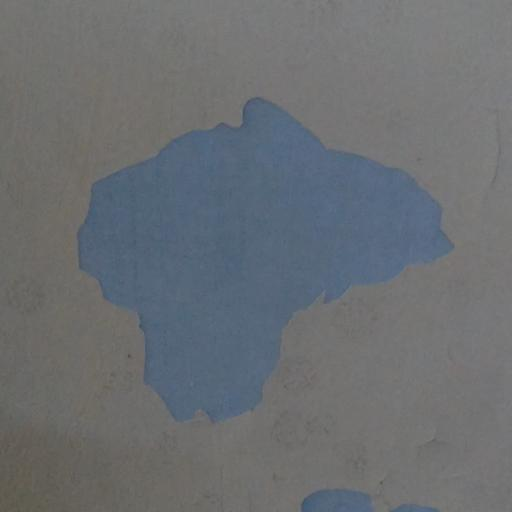peeling: (72, 85, 463, 429), (283, 475, 456, 512)
